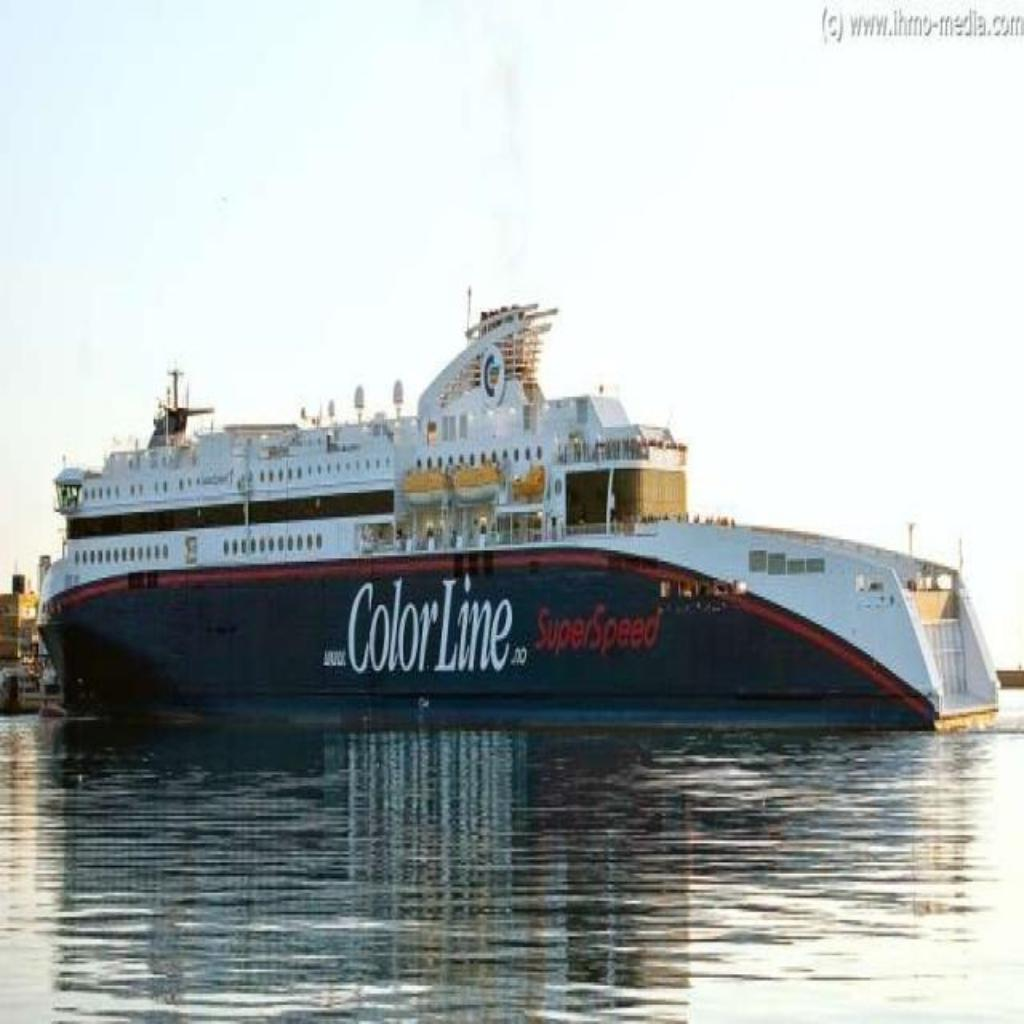PassengerShip: (33, 249, 1001, 775)
